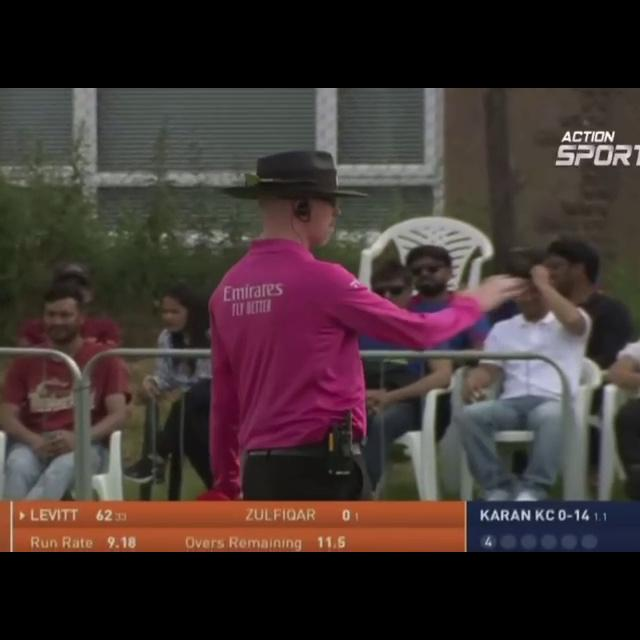umpire: (136, 114, 577, 482)
